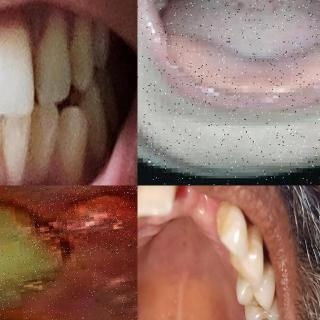Gum Swelling: (0, 185, 116, 219)
maligned: (31, 90, 64, 178), (56, 101, 90, 186)
stains: (252, 309, 275, 320)
